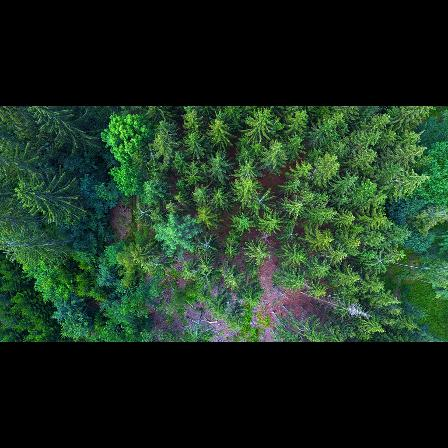Dead: (335, 300, 376, 318)
Sick: (196, 234, 218, 256), (133, 205, 155, 222)
